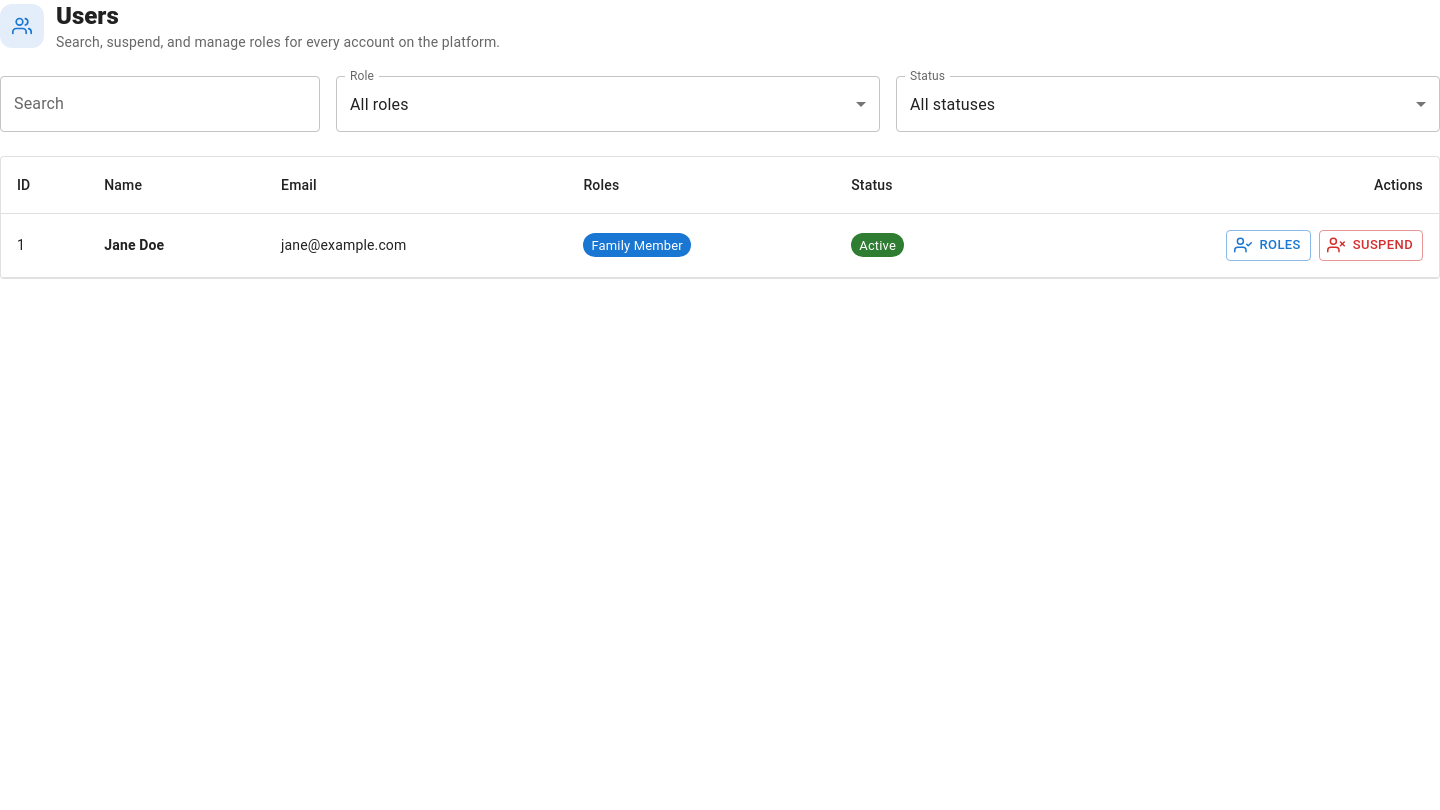
Test case: Admin Users.page › suspends a user after confirming the dialog
Expected: the text "jane@example.com" is shown, [265,214,568,277]
Click the button "Suspend" at (1371, 245), box [1319,230,1423,261]
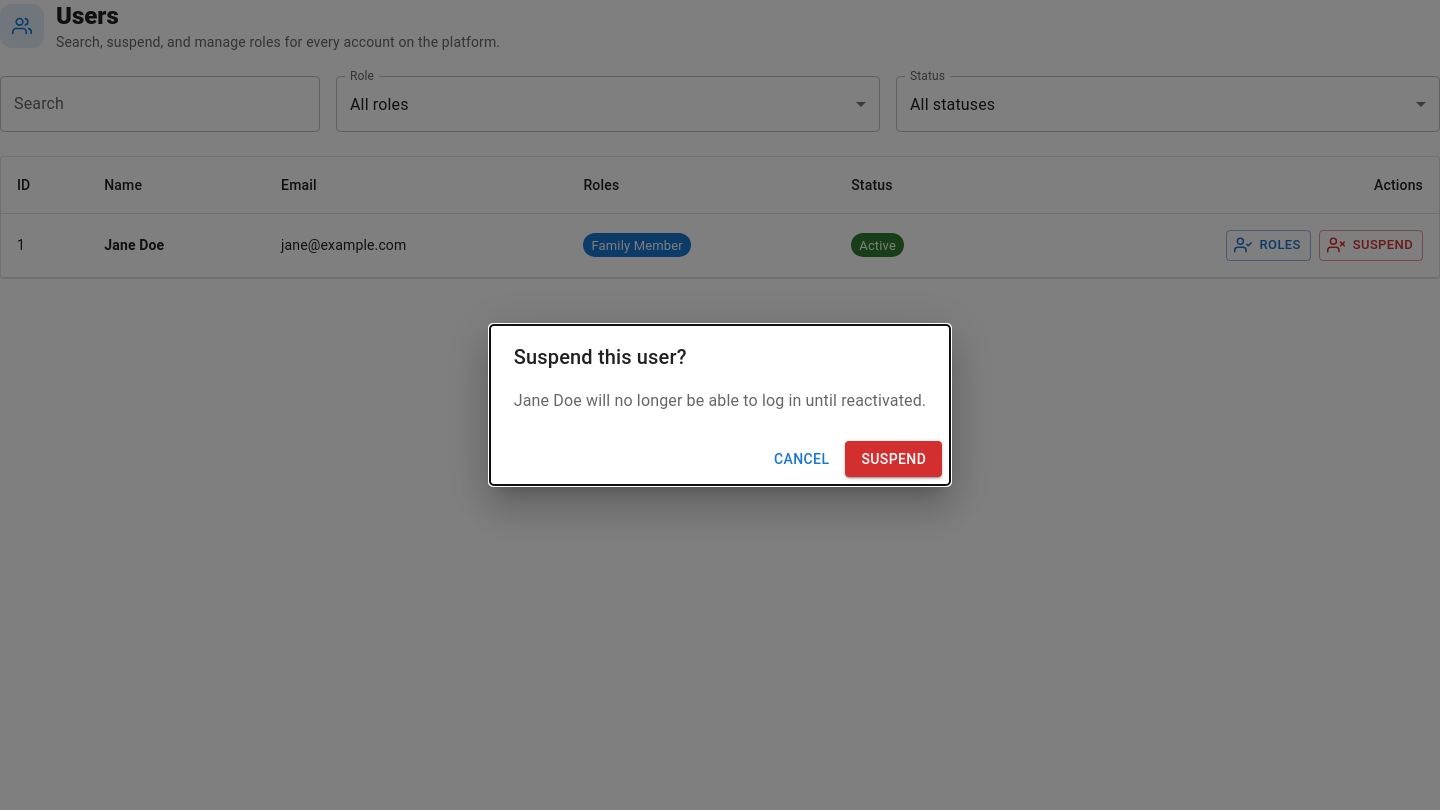
Result: the heading "Suspend this user?" is shown at [514,345,687,369]
Click the button "Suspend" at (894, 459), box [845,441,942,477]
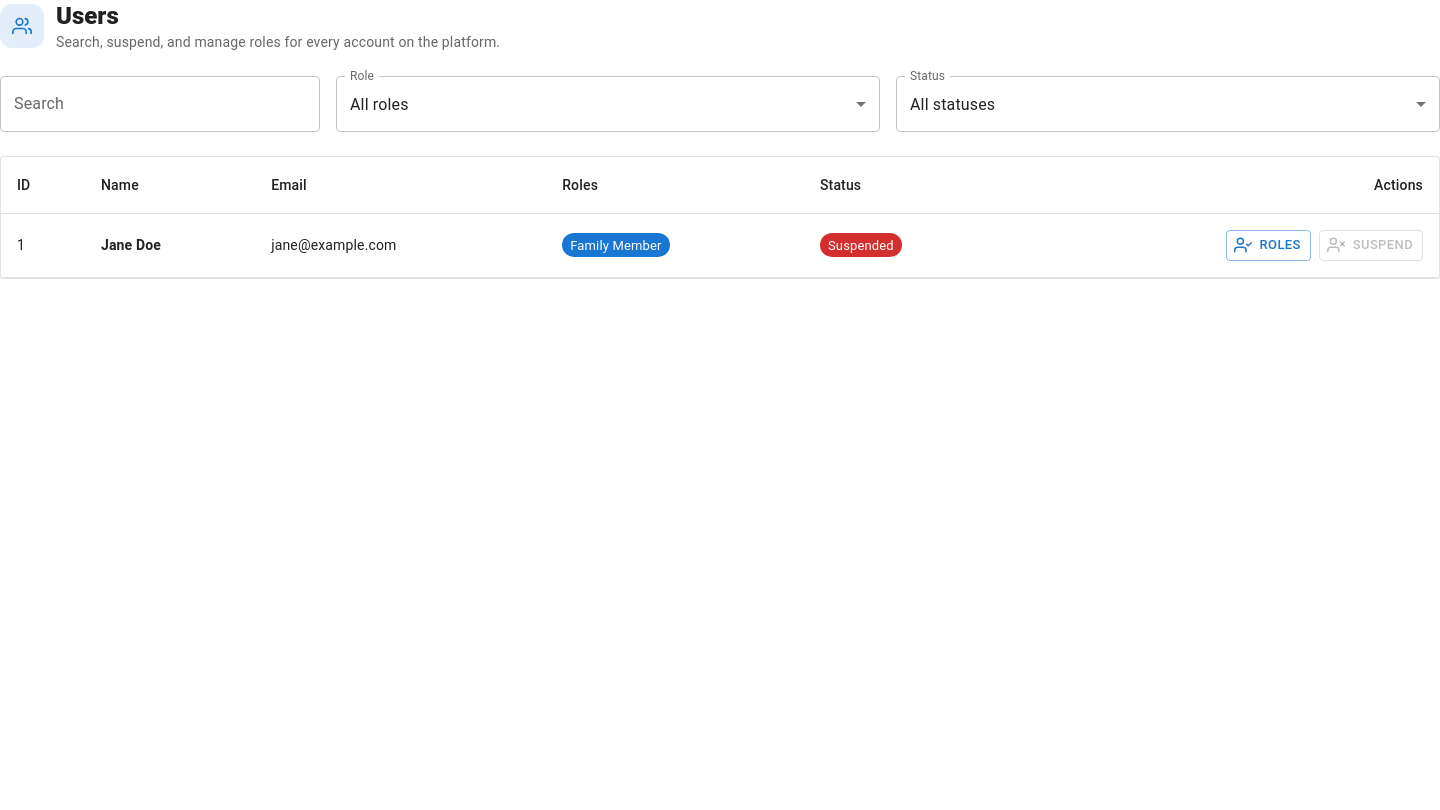
Result: the text "Suspended" is shown at [828,238,894,253]
